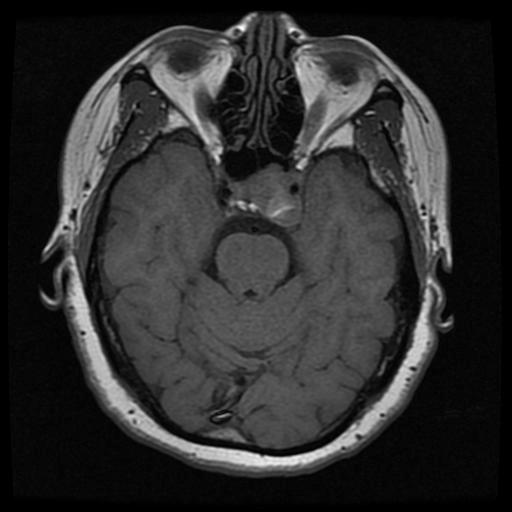Tumour-Pituitary: (210, 161, 323, 237)
